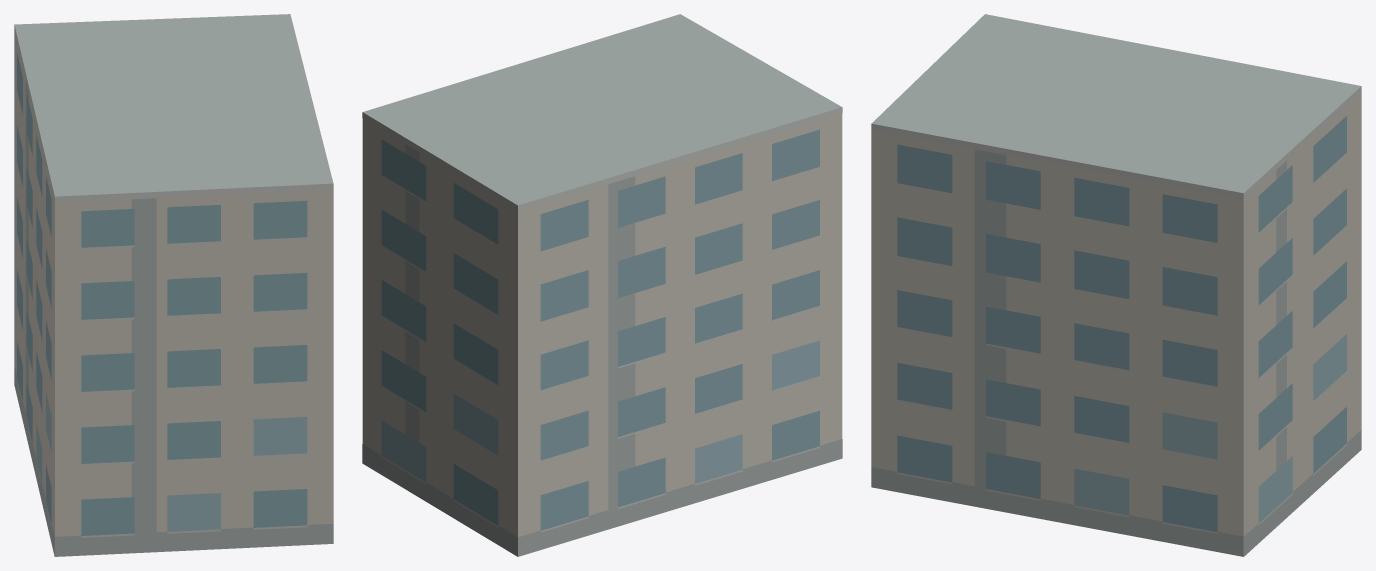
File: survey-upis-32517197.glb
3 renders of one model, left to right at view 1: azimuth 30°, elevation 25°; view 2: azimuth 150°, elevation 25°; view 3: azimuth 270°, elevation 25°, orthographic. The views are drawn at different scales.
Visible parts, largest first — view 1: survey-upis-32517197.tmp; view 2: survey-upis-32517197.tmp; view 3: survey-upis-32517197.tmp.
Part boxes in pixels (box(x1,y1,x2,y2)): survey-upis-32517197.tmp: box(14, 14, 333, 556); survey-upis-32517197.tmp: box(362, 14, 842, 556); survey-upis-32517197.tmp: box(871, 14, 1361, 556).
Size of the model in its own units: 14.7 by 13.9 by 16.99.
